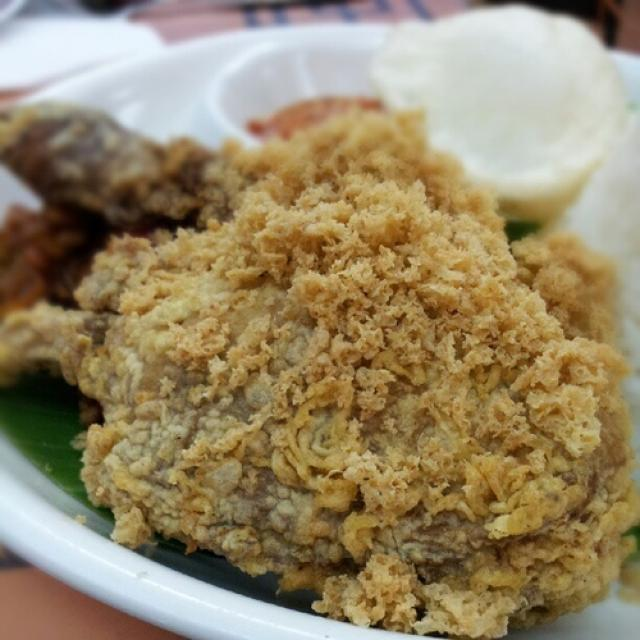鸡肉料理 含炸鸡: (7, 34, 634, 624)
